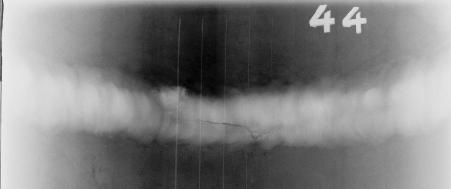IE: (138, 144, 276, 172), (146, 82, 188, 120)
TR: (183, 114, 287, 142)
